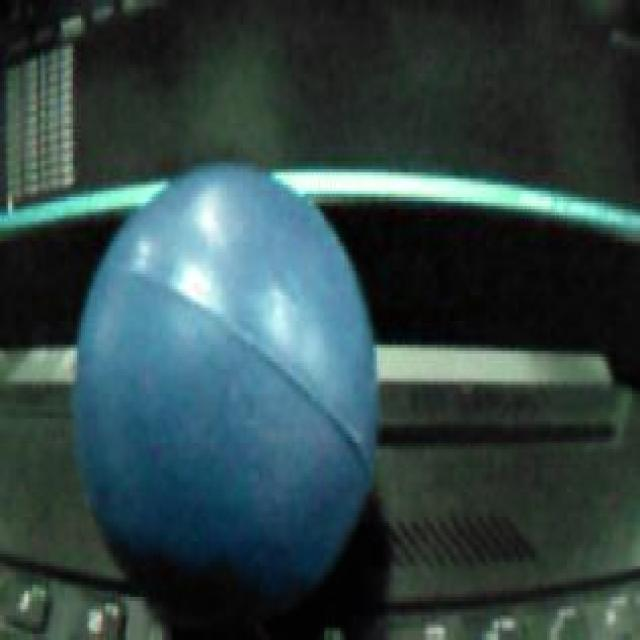BallPurple: (75, 165, 378, 620)
